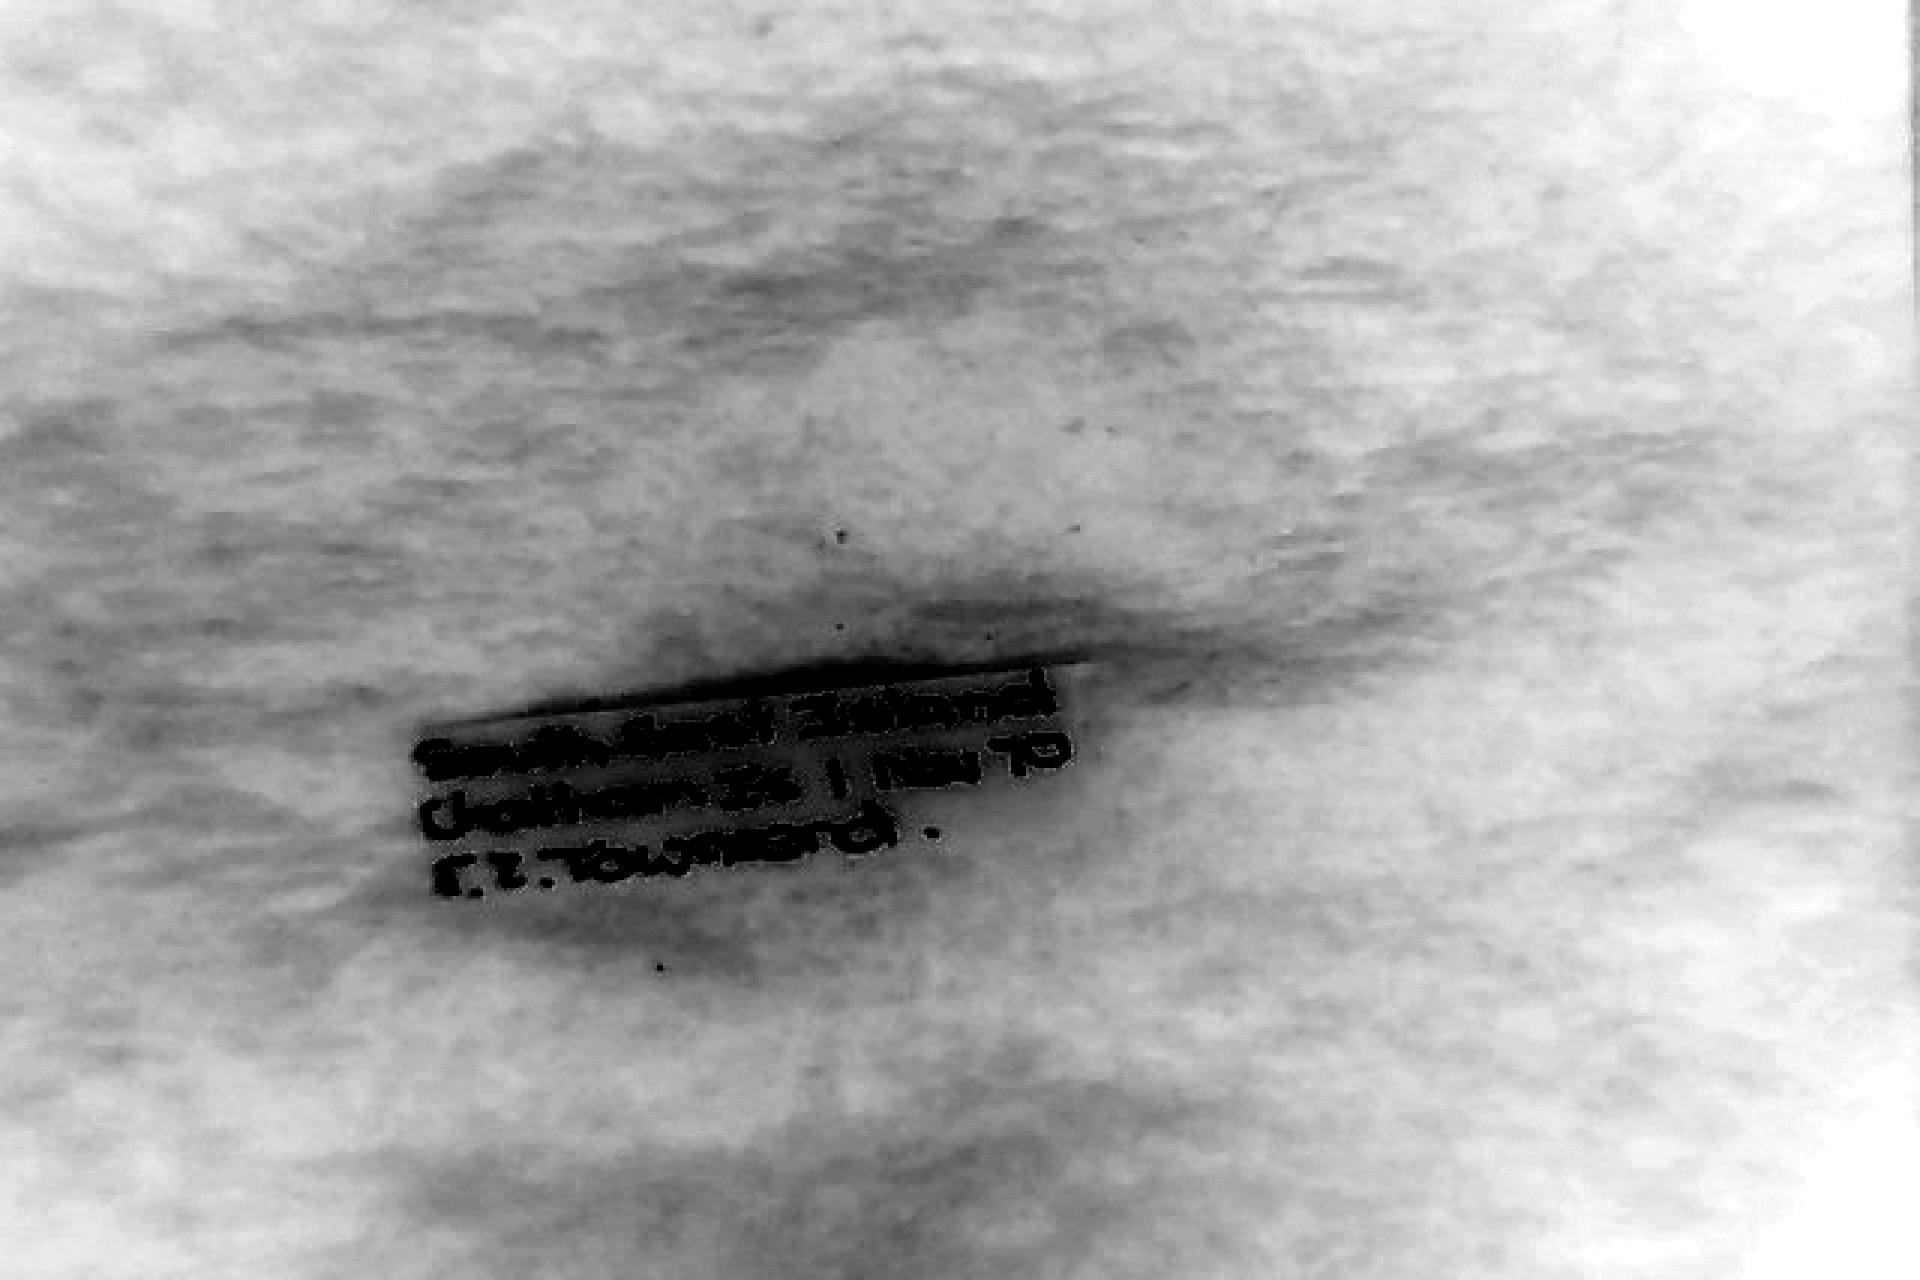hand_label: (412, 667, 1091, 907)
